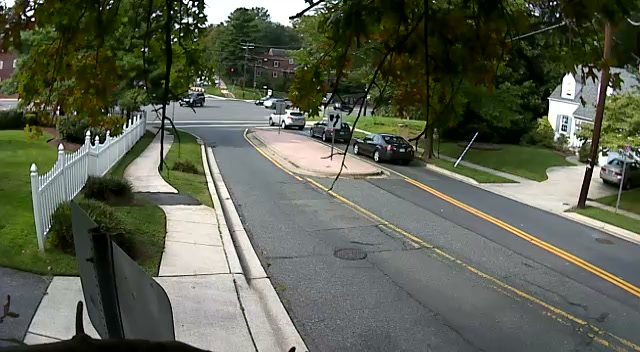car: (351, 133, 414, 164), (600, 153, 640, 190), (310, 118, 352, 143), (268, 110, 306, 129), (280, 111, 306, 130), (179, 92, 206, 108)
